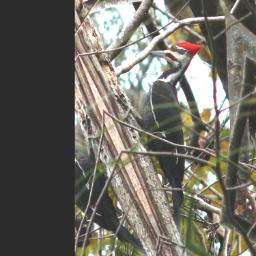Woodpecker: (105, 21, 256, 235)
